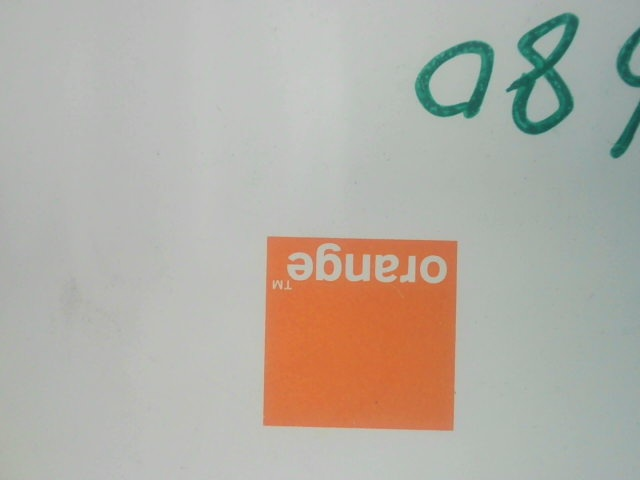AR_Orange: (239, 232, 472, 437)
